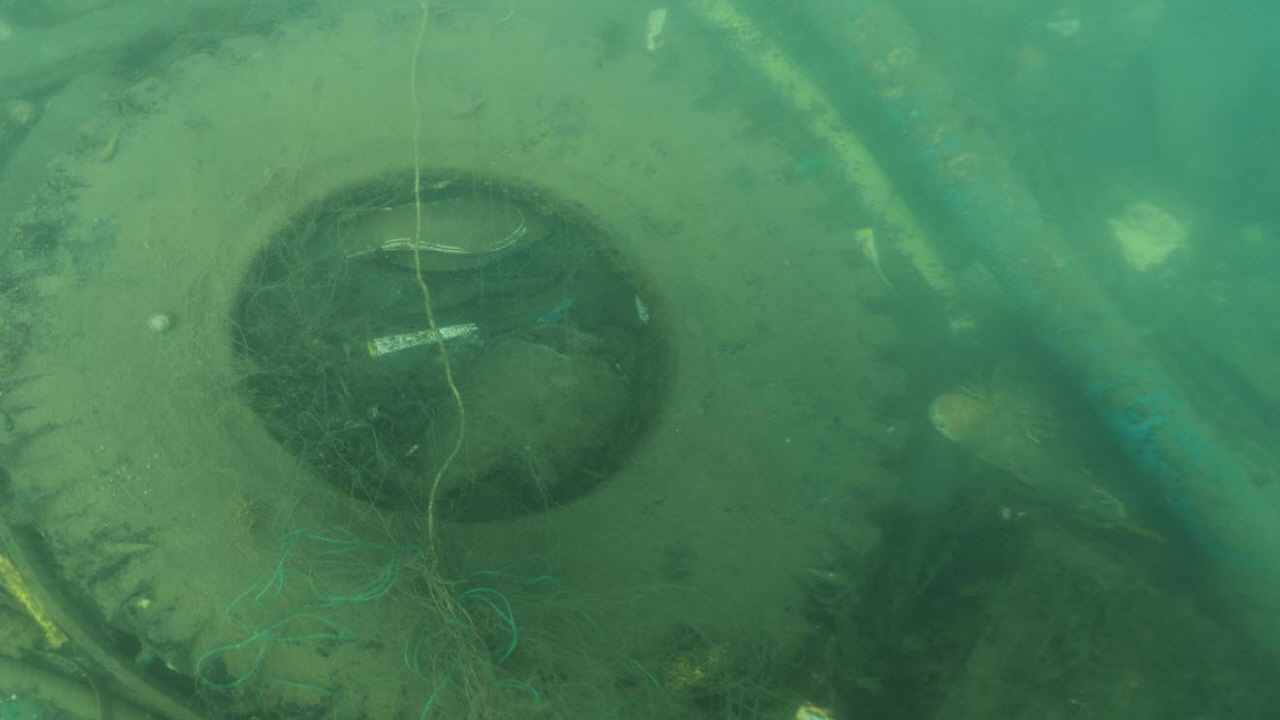tire: (0, 0, 914, 720)
